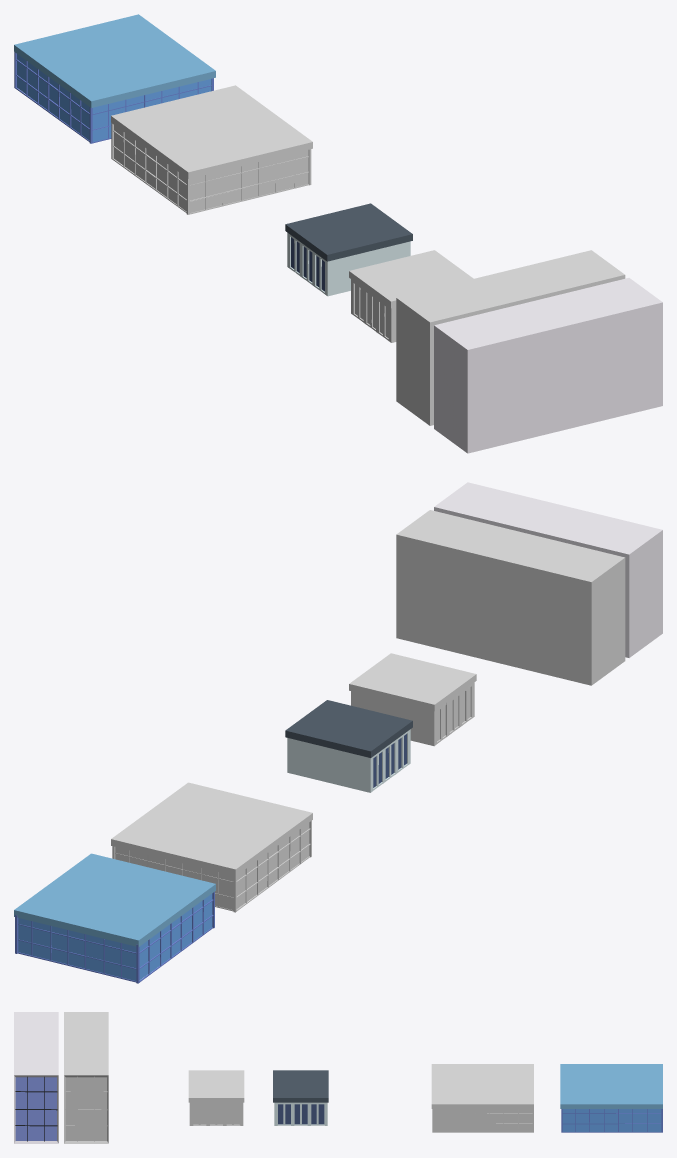
File: building_2.fbx
The picture shows the model from 3 angles, top to bottom: view 1: azimuth 30°, elevation 25°; view 2: azimuth 150°, elevation 25°; view 3: azimuth 270°, elevation 25°; orthographic projection. The views are drawn at different scales.
Parts seen in each view (by area): view 1: building 1, base.002, roof.003, roof.002, Cube.003, roof, base, roof.001, base.001, frame.002, building 3, base.003 (+2 smaller); view 2: base.002, building 1, roof.002, roof.003, base, roof.001, roof, Cube.003, base.001, base.003, building 3, frame.002; view 3: roof.002, roof.003, base.002, building 1, building 1 (no texture), window, base, Cube.003, roof.001, roof, building 2, building 2 (no texture) (+6 smaller).
Boxes of the visible parts, x1,y1,x2,y2 form: building 1: (434, 278, 662, 453); base.002: (396, 250, 625, 425); roof.003: (14, 14, 215, 107); roof.002: (111, 85, 312, 178); Cube.003: (114, 125, 308, 212); roof: (285, 203, 412, 261); base: (17, 54, 211, 141); roof.001: (349, 250, 473, 308); base.001: (287, 233, 410, 296); frame.002: (111, 123, 311, 214); building 3: (14, 52, 213, 143); base.003: (351, 279, 396, 342); base.002: (396, 510, 625, 685); building 1: (434, 482, 662, 657); roof.002: (111, 782, 312, 876); roof.003: (14, 853, 215, 947); base: (18, 894, 212, 980); roof.001: (349, 653, 476, 711); roof: (285, 700, 412, 757); Cube.003: (115, 823, 309, 910); base.001: (287, 729, 410, 792); base.003: (351, 682, 474, 746); building 3: (15, 891, 214, 983); frame.002: (112, 820, 311, 912); roof.002: (431, 1064, 533, 1108); roof.003: (560, 1064, 662, 1108); base.002: (64, 1012, 108, 1143); building 1: (14, 1012, 58, 1143); building 1 (no texture): (65, 1077, 106, 1140); window: (15, 1077, 56, 1140); base: (562, 1109, 661, 1131); Cube.003: (434, 1109, 532, 1131); roof.001: (188, 1070, 244, 1102); roof: (273, 1070, 328, 1102); building 2: (278, 1104, 324, 1124); building 2 (no texture): (193, 1104, 239, 1124).
Size of the model in its own units: 2752 by 1410 by 11941.
